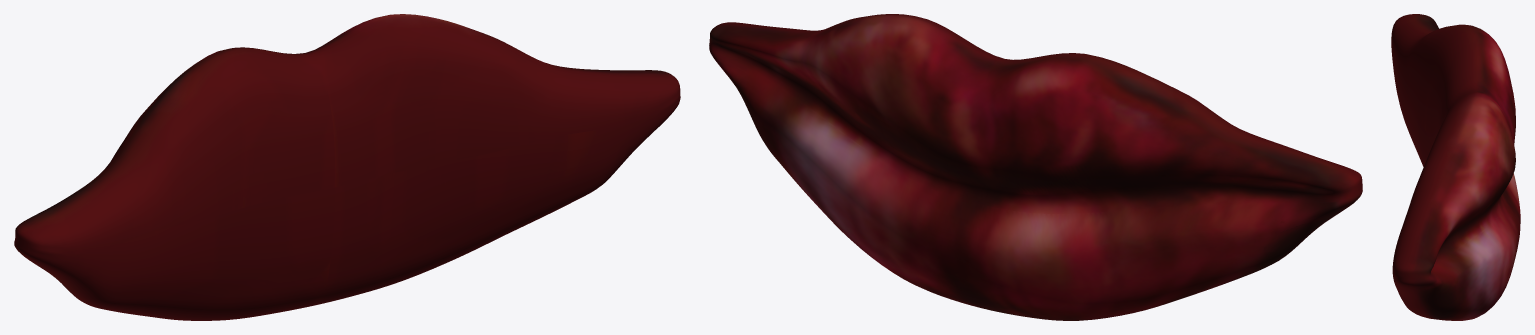
The model's file is lips.fbx.
3 renders of one model, left to right at view 1: azimuth 30°, elevation 25°; view 2: azimuth 150°, elevation 25°; view 3: azimuth 270°, elevation 25°, orthographic. The views are drawn at different scales.
Parts seen in each view (by area): view 1: Lips; view 2: Lips; view 3: Lips.
Boxes of the visible parts, x1=… form: Lips: x1=14, y1=14, x2=680, y2=320; Lips: x1=709, y1=14, x2=1362, y2=320; Lips: x1=1391, y1=14, x2=1520, y2=320.
Size of the model in its own units: 117 by 46.95 by 25.04.
